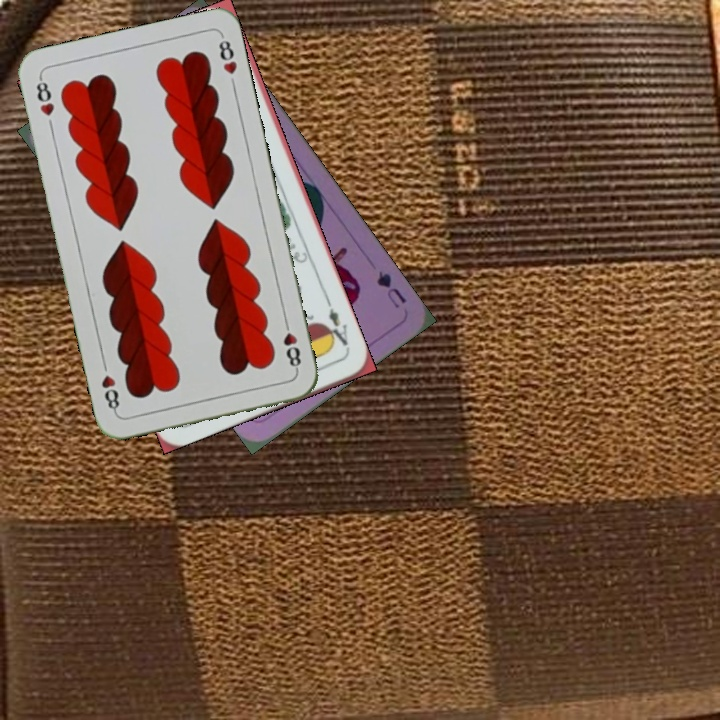EA: (320, 297, 353, 354)
GU: (372, 266, 409, 311)
H8: (279, 315, 304, 374), (32, 73, 57, 119)
